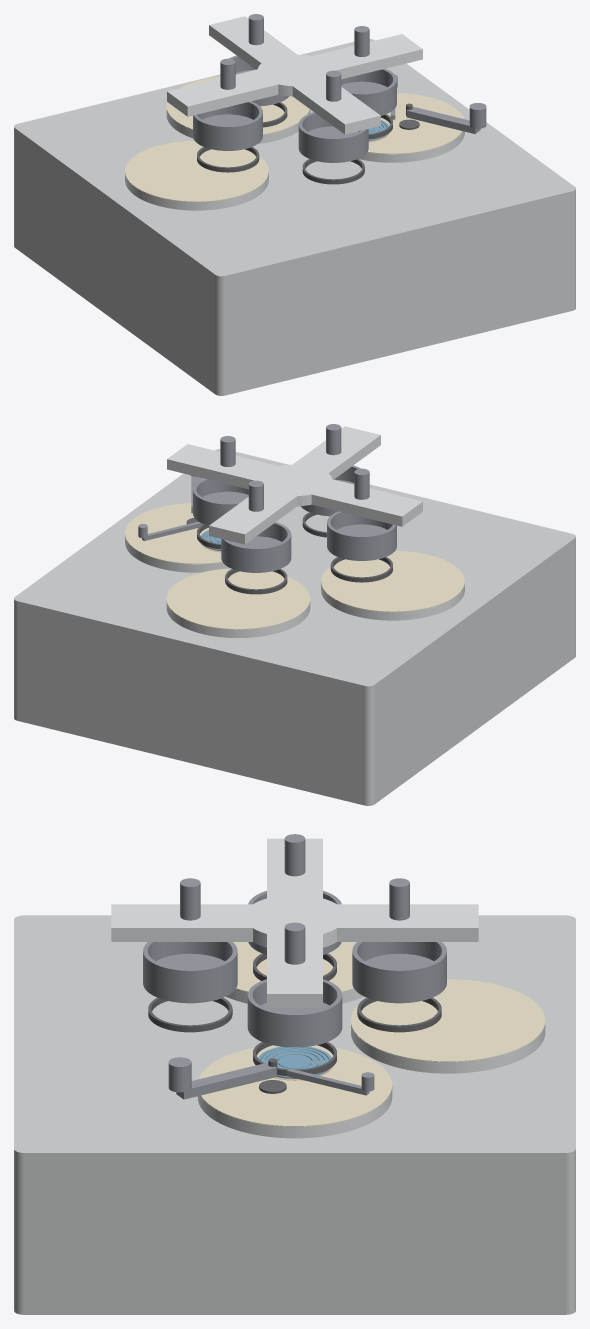
3 renders of one model, top to bottom at view 1: azimuth 30°, elevation 25°; view 2: azimuth 150°, elevation 25°; view 3: azimuth 270°, elevation 25°, orthographic. The views are drawn at different scales.
Visible parts, largest first — view 1: polish_base, carousel, pads, carrier_heads, platens, retaining_rings, conditioner_arm; view 2: polish_base, pads, carousel, carrier_heads, platens, retaining_rings, slurry_arm; view 3: polish_base, pads, carousel, carrier_heads, platens, retaining_rings, conditioner_arm, membrane_zones, slurry_arm.
Boxes of the visible parts, x1,y1,x2,y2 form: polish_base: [14, 39, 575, 395]; carousel: [167, 16, 422, 134]; pads: [125, 76, 463, 201]; carrier_heads: [193, 14, 396, 162]; platens: [125, 109, 464, 210]; retaining_rings: [197, 102, 392, 184]; conditioner_arm: [406, 103, 486, 133]; polish_base: [14, 449, 575, 805]; pads: [125, 503, 464, 629]; carousel: [167, 426, 422, 544]; carrier_heads: [193, 424, 396, 572]; platens: [125, 535, 464, 637]; retaining_rings: [197, 512, 392, 594]; slurry_arm: [138, 521, 202, 540]; polish_base: [14, 915, 575, 1314]; pads: [199, 942, 545, 1126]; carousel: [111, 838, 478, 1007]; carrier_heads: [143, 834, 446, 1047]; platens: [197, 989, 545, 1138]; retaining_rings: [148, 953, 441, 1076]; conditioner_arm: [168, 1057, 276, 1099]; membrane_zones: [258, 1046, 331, 1078]; slurry_arm: [287, 1068, 374, 1095].
Bounding box in the file's own units: 2.2 × 1.36 × 2.2.
